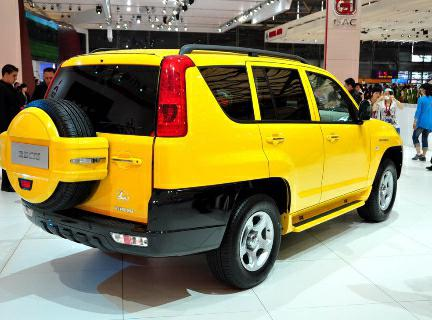猎豹汽车-猎豹CS6: (4, 43, 408, 284)
